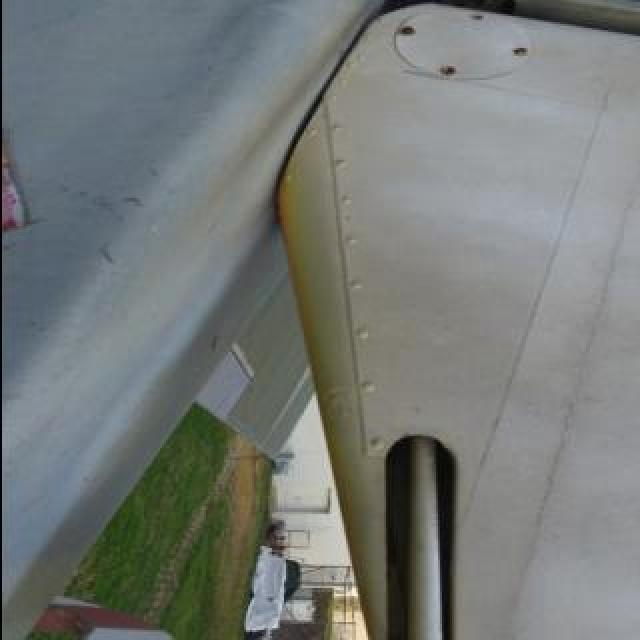dent: (543, 362, 588, 489)
